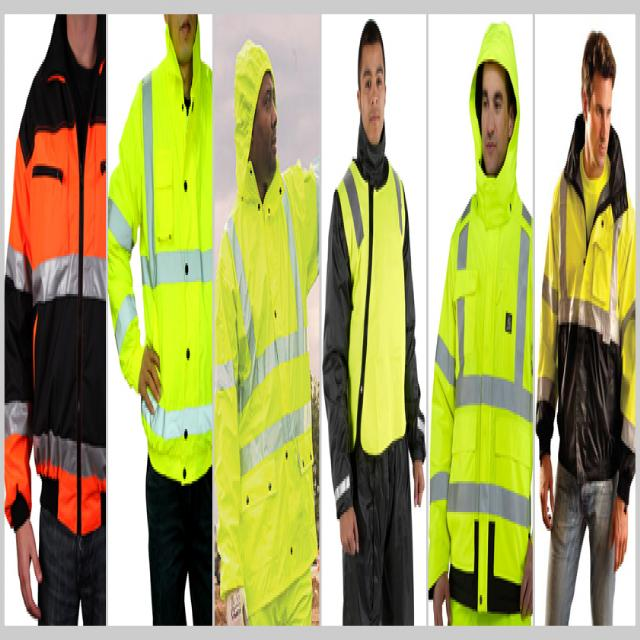Reflective-Jacket: (5, 21, 108, 536), (425, 164, 537, 624), (215, 156, 321, 624), (108, 48, 215, 482), (540, 142, 637, 458), (334, 152, 413, 458)
